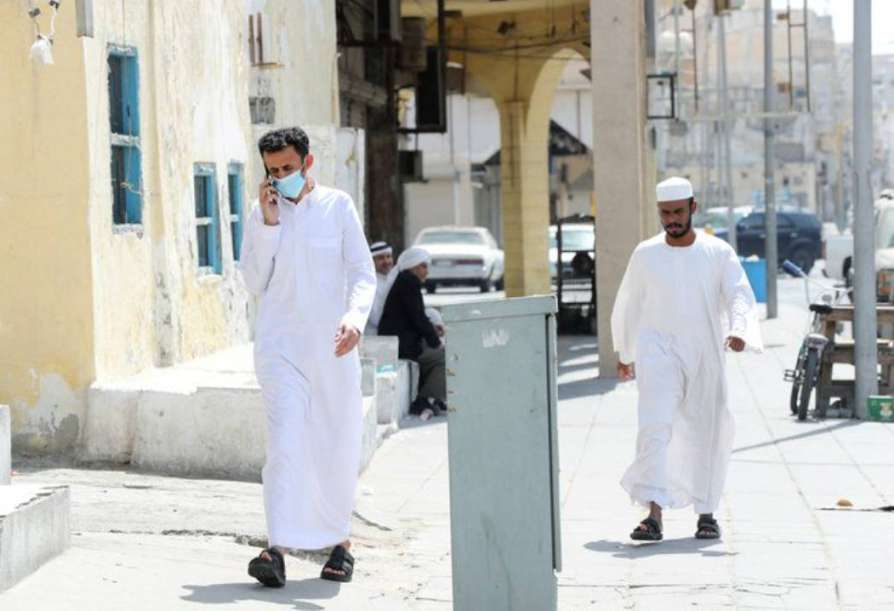Person: (225, 122, 384, 581), (612, 174, 756, 563)
